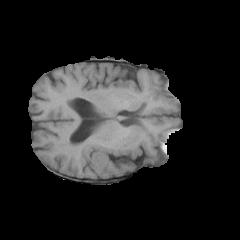glioma: (80, 138, 135, 172)
